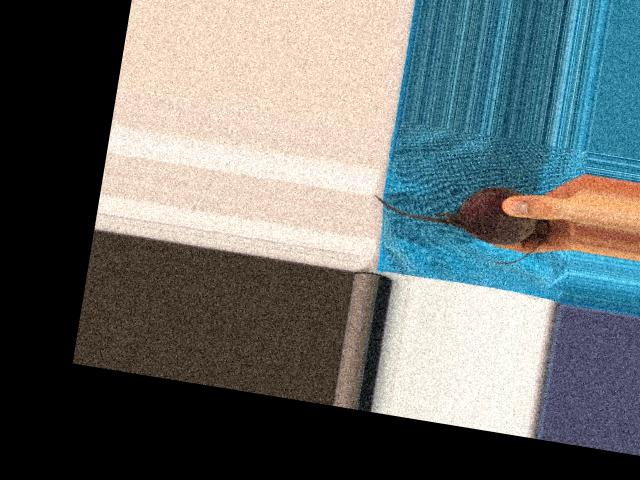beet: (366, 166, 554, 269)
